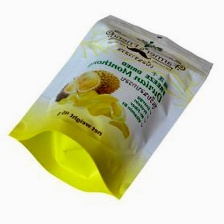snack: (2, 9, 218, 203)
